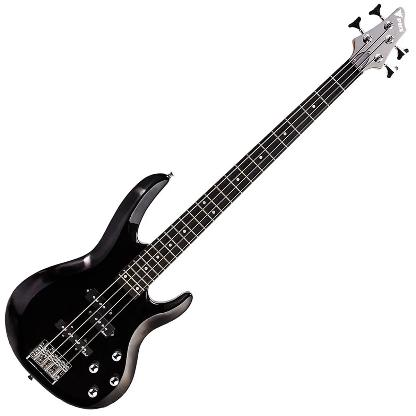bass: (5, 5, 410, 410)
